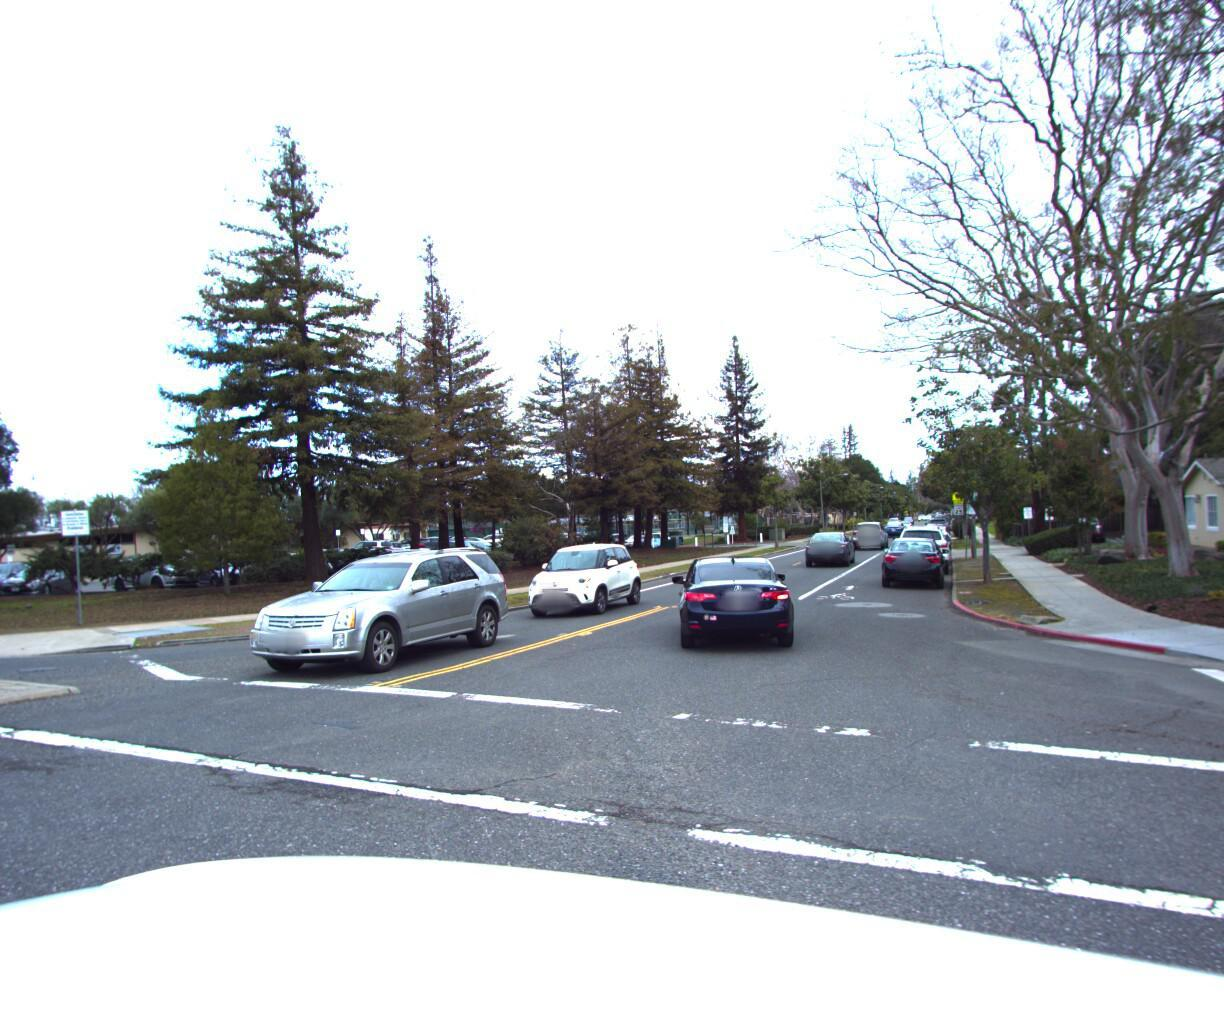car: (217, 538, 526, 684), (672, 535, 798, 655), (514, 533, 650, 613), (880, 526, 956, 586), (890, 514, 960, 570), (801, 517, 858, 559), (1057, 506, 1104, 537), (916, 518, 953, 544)
